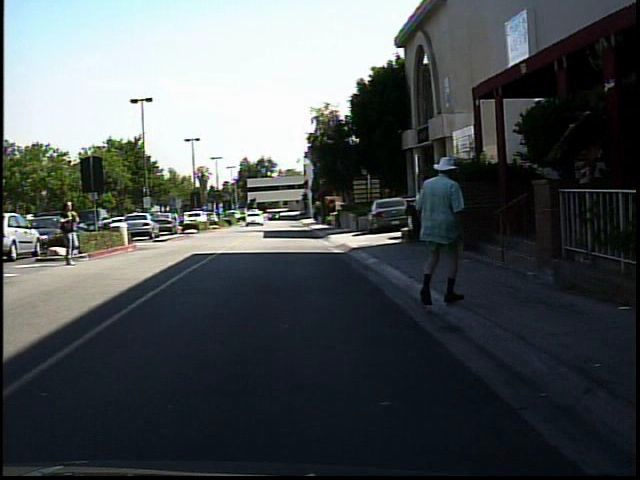person: (405, 145, 476, 315), (55, 194, 85, 269), (167, 207, 182, 231)
